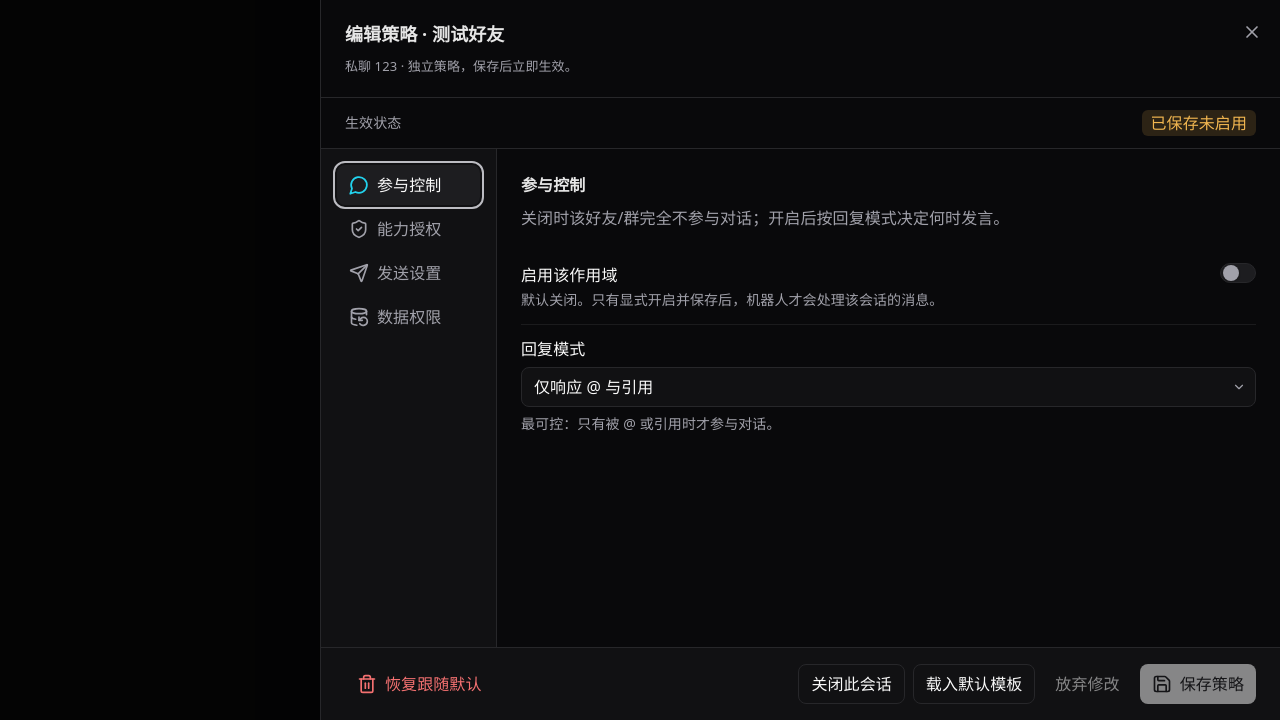
shows permission changes before restoring the default template
The width and height of the screenshot is (1280, 720).
Step 1. Click the button "恢复跟随默认" → coordinates (419, 684), box 345,664 -> 494,704
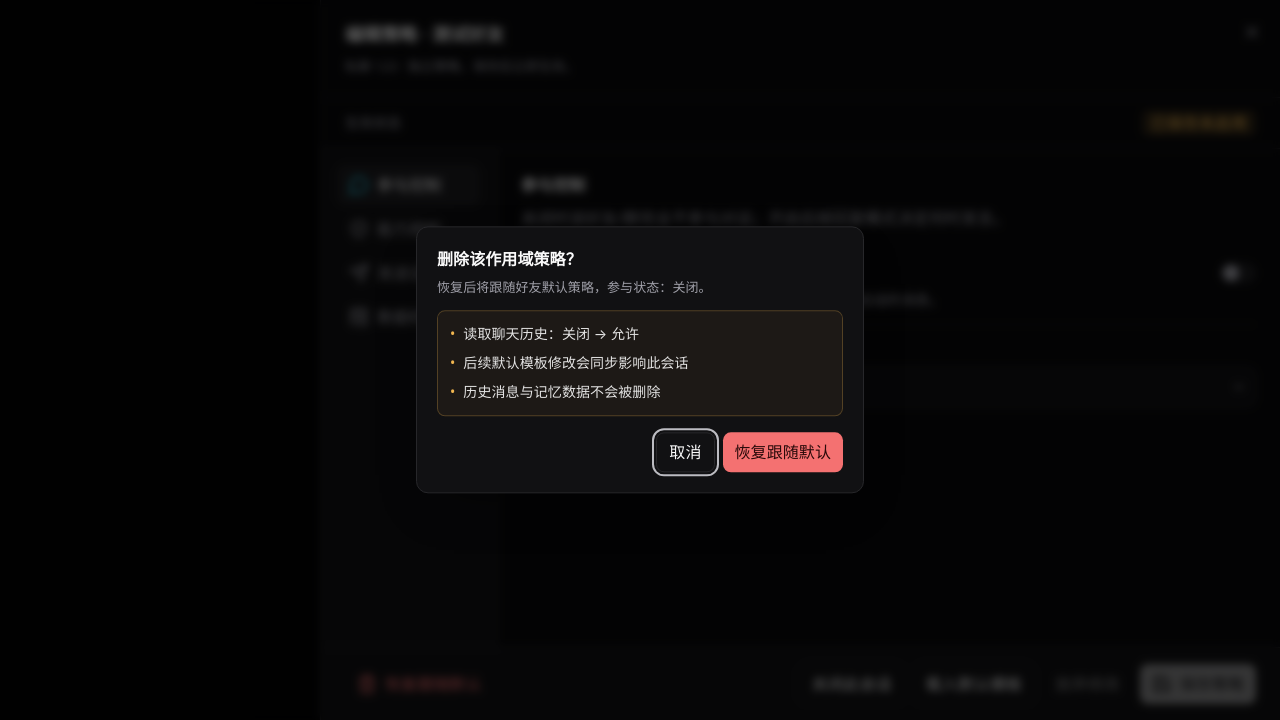
Expected: the text "读取聊天历史：关闭 → 允许" is shown, 463,323 -> 639,346
